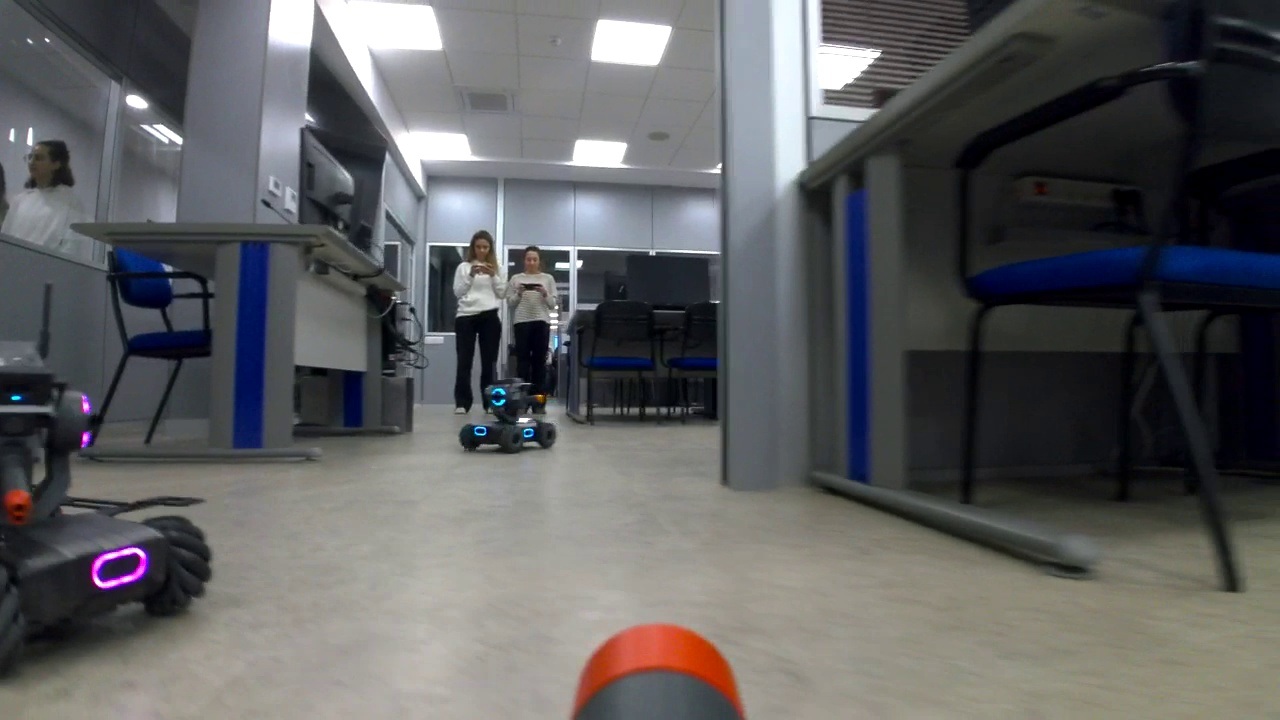robot: (1, 339, 216, 692), (454, 377, 560, 456)
